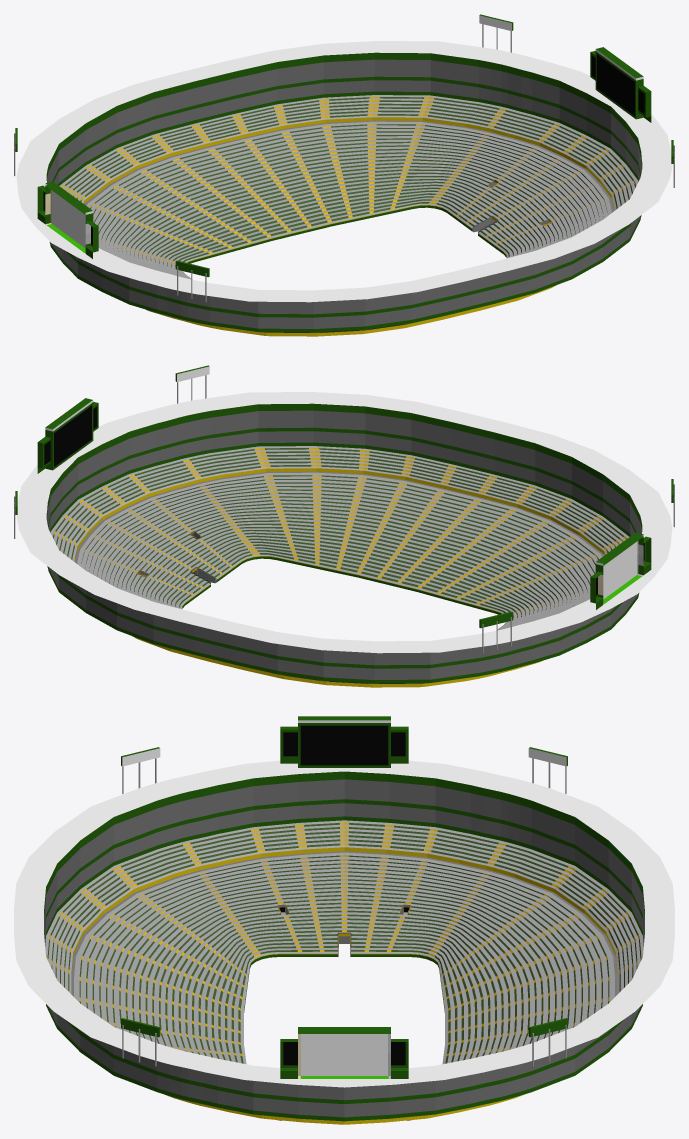
File: LambeauField_Stadium.fbx
3 renders of one model, top to bottom at view 1: azimuth 30°, elevation 25°; view 2: azimuth 150°, elevation 25°; view 3: azimuth 270°, elevation 25°, orthographic. The views are drawn at different scales.
Parts seen in each view (by area): view 1: Stadium, Screen, Screen.001, LightPanel.001; view 2: Stadium, Screen, Screen.001, LightPanel; view 3: Stadium, Screen.001, Screen, LightPanel.002, LightPanel.003, LightPanel, LightPanel.001.
Boxes of the visible parts, x1,y1,x2,y2 form: Stadium: (16, 41, 672, 336); Screen: (37, 181, 98, 258); Screen.001: (590, 47, 651, 122); LightPanel.001: (175, 260, 209, 302); Stadium: (16, 392, 672, 687); Screen: (590, 532, 651, 609); Screen.001: (37, 398, 98, 473); LightPanel: (479, 611, 513, 653); Stadium: (14, 760, 674, 1124); Screen.001: (280, 1027, 408, 1078); Screen: (280, 716, 408, 767); LightPanel.002: (121, 1018, 160, 1066); LightPanel.003: (528, 1018, 567, 1066); LightPanel: (528, 747, 567, 793); LightPanel.001: (121, 747, 160, 793).
Bounding box in the file's own units: 53772 × 11974 × 45370.
